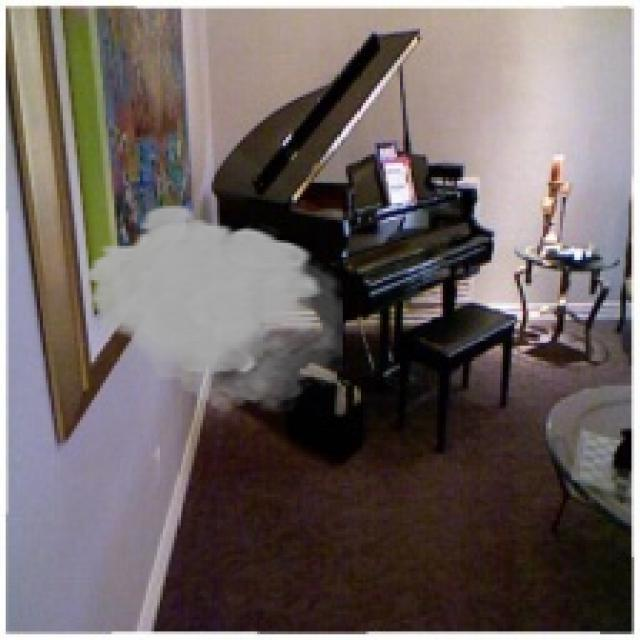Smoke: (80, 203, 343, 420)
